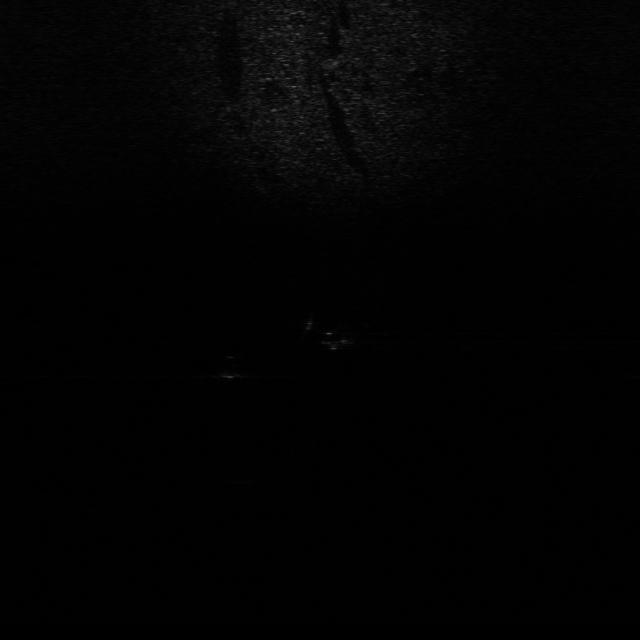ball: (212, 354, 249, 381)
circle cage: (223, 460, 279, 485)
human body: (302, 309, 373, 352)
